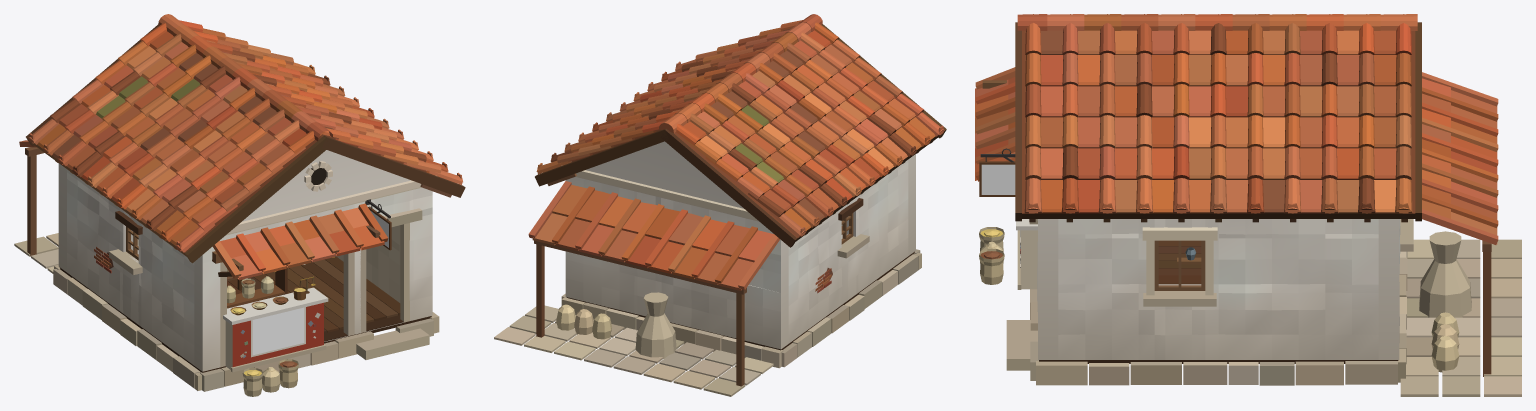
Rendered from artisan_1_1.glb.
The picture shows the model from 3 angles, left to right: view 1: azimuth 30°, elevation 25°; view 2: azimuth 150°, elevation 25°; view 3: azimuth 270°, elevation 25°; orthographic projection. The views are drawn at different scales.
Visible parts, largest first — view 1: House, Walls, Rooms; view 2: House, Walls; view 3: House, Walls, Rooms.
Boxes of the visible parts, <box> form: House: <box>14,14,465,396</box>; Walls: <box>58,150,432,371</box>; Rooms: <box>137,225,400,333</box>; House: <box>494,14,946,396</box>; Walls: <box>565,141,915,349</box>; House: <box>975,14,1521,396</box>; Walls: <box>1037,219,1400,359</box>; Rooms: <box>1158,240,1201,284</box>.
Bounding box in the file's own units: 4.45 × 3.53 × 5.9.
7 materials, 7 textured.
